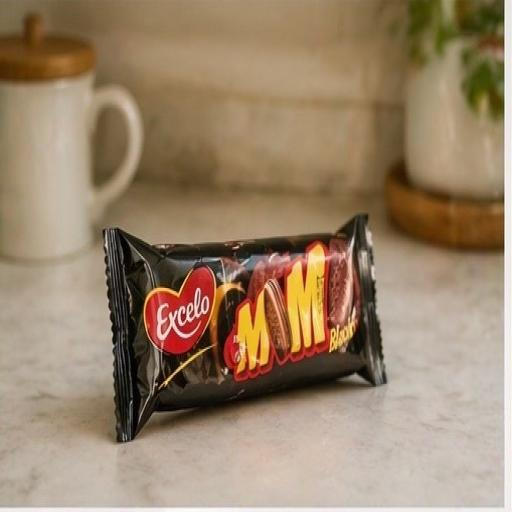MOMO: (76, 157, 421, 480)
